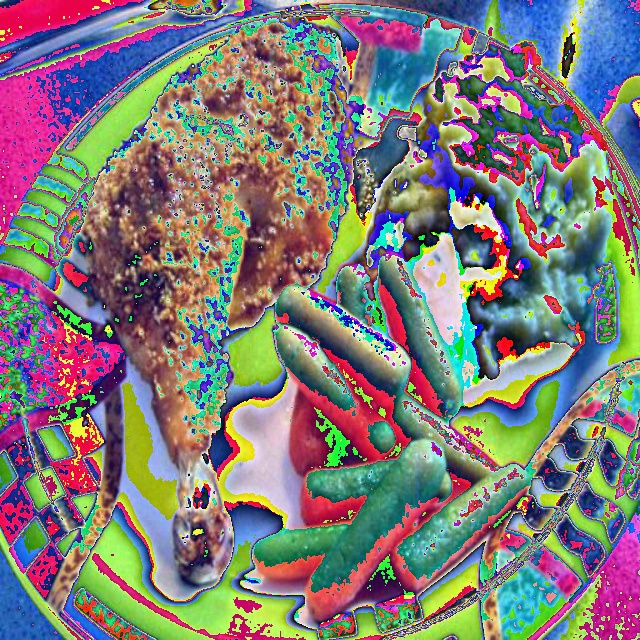background: (78, 17, 612, 621)
